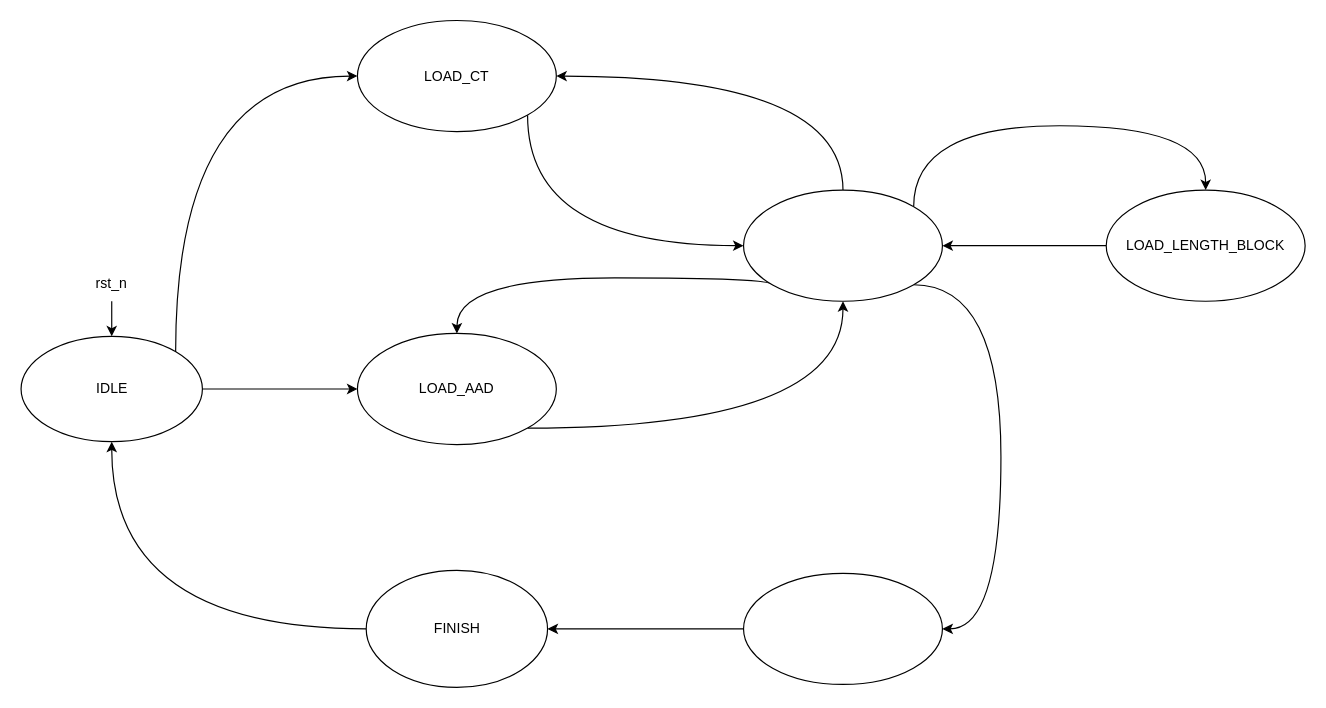
The diagram is 1326 pixels wide and 708 high, and some of its shapes have lost their labels. Here are the shapes that lost their labels. From the top down, the centre of each, then its label:
At (842,245): "GHASH_PROCESSING".
At (842,628): "TAG_GENERATION".
